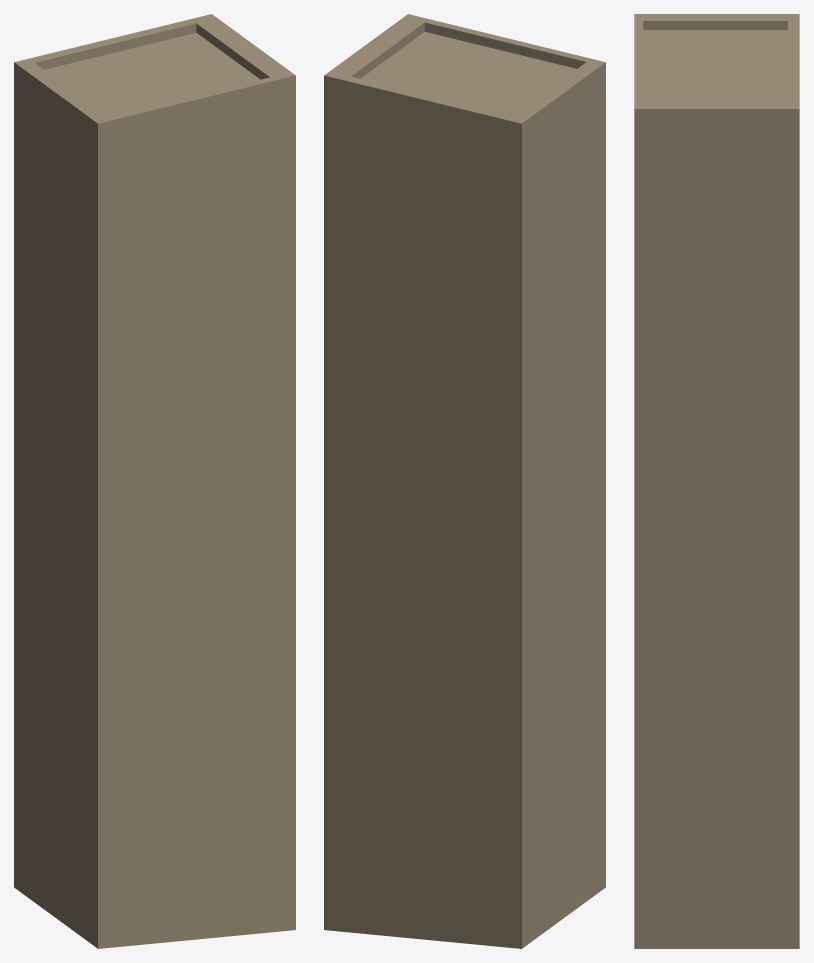
3 renders of one model, left to right at view 1: azimuth 30°, elevation 25°; view 2: azimuth 150°, elevation 25°; view 3: azimuth 270°, elevation 25°, orthographic.
Parts seen in each view (by area): view 1: tower_body; view 2: tower_body; view 3: tower_body.
Boxes of the visible parts, x1,y1,x2,y2 form: tower_body: (14, 14, 295, 948); tower_body: (324, 14, 605, 948); tower_body: (634, 14, 799, 948).
Bounding box in the file's own units: 24.22 × 100 × 17.82.
